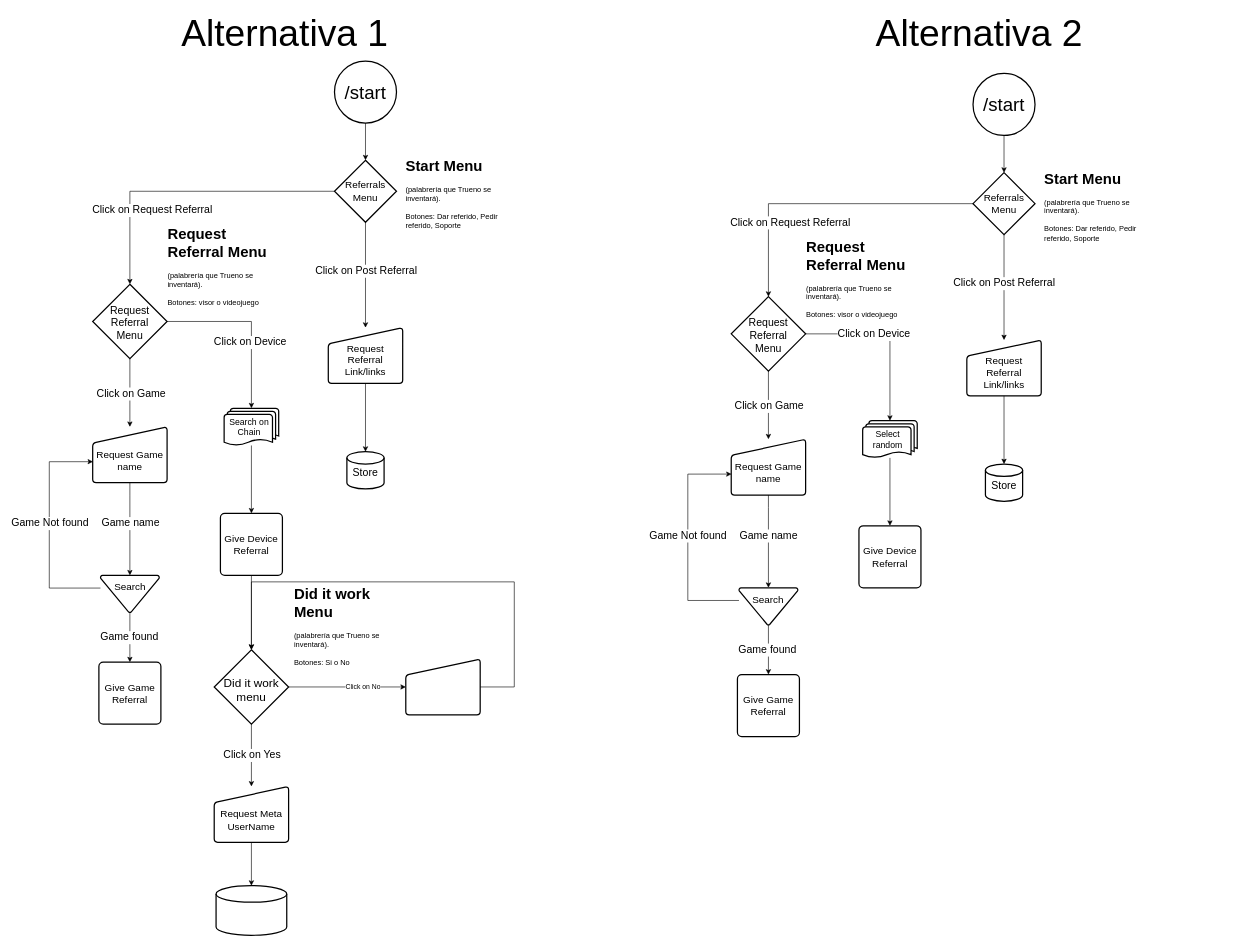
This 1238x946 diagram has some shape labels left out. The shapes that lost their labels are listed below. From the top down, each one's box as (x1, y1, x2, y2) in pixels, then its label:
(405, 658, 480, 715): Show Message to help
(215, 885, 287, 936): Store user in Chain
